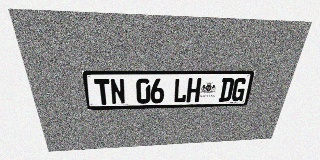0: (136, 78, 150, 104)
6: (150, 78, 165, 103)
D: (218, 78, 235, 102)
G: (230, 78, 248, 101)
H: (186, 78, 202, 103)
L: (173, 78, 188, 103)
N: (109, 79, 126, 104)
T: (94, 79, 111, 105)
